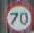Speed limit: (1, 0, 32, 32)
